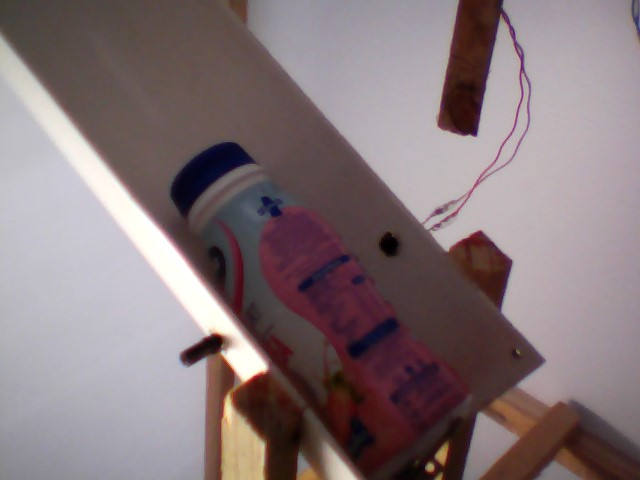plastico: (165, 140, 484, 480)
